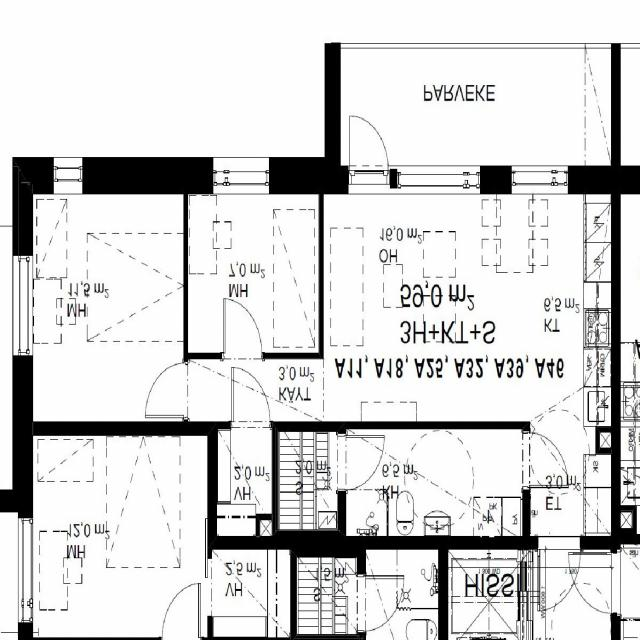door: (538, 536, 582, 610), (350, 111, 388, 194), (338, 435, 385, 490), (522, 432, 568, 487), (145, 362, 188, 418), (232, 366, 270, 428), (224, 297, 262, 358)
